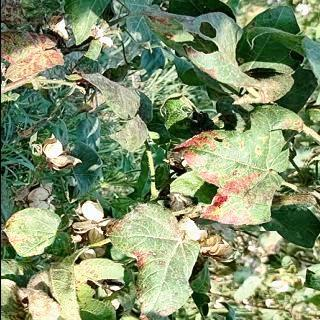blight: (169, 113, 308, 231)
